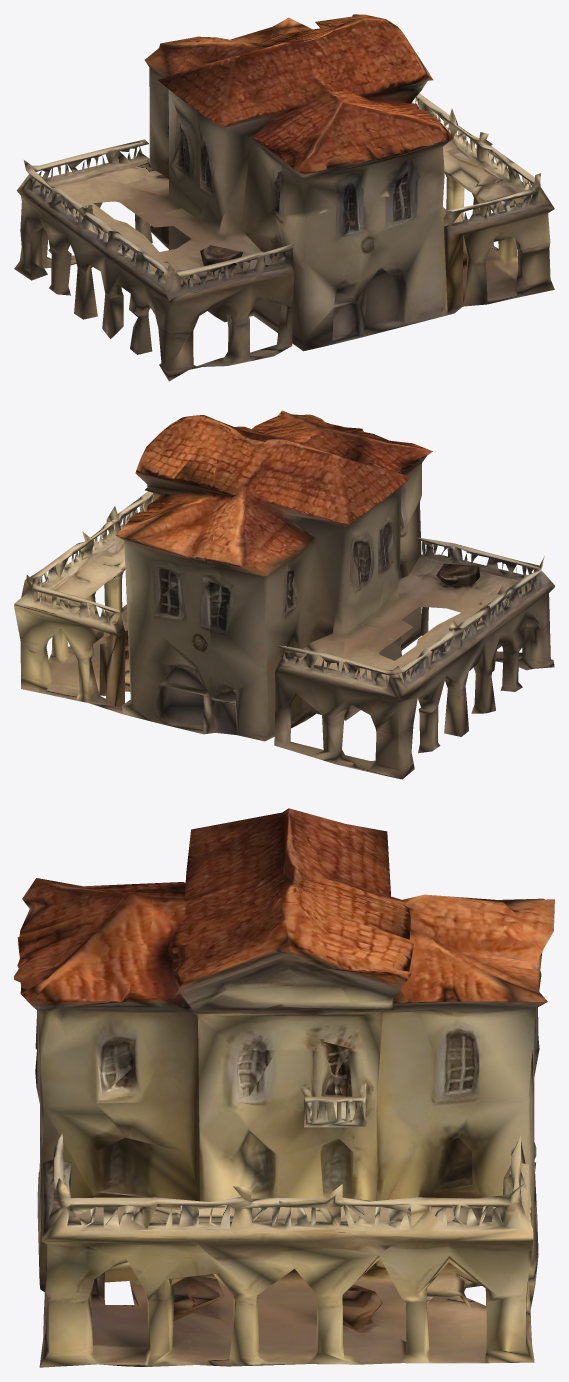
File: haus_mittelmeer.glb
3 renders of one model, top to bottom at view 1: azimuth 30°, elevation 25°; view 2: azimuth 150°, elevation 25°; view 3: azimuth 270°, elevation 25°, orthographic. The views are drawn at different scales.
Visible parts, largest first — view 1: tripo_node_808f4878-2a22-4189-8404-f04306ef44aa; view 2: tripo_node_808f4878-2a22-4189-8404-f04306ef44aa; view 3: tripo_node_808f4878-2a22-4189-8404-f04306ef44aa.
Part boxes in pixels (x1,y1,x2,y2): tripo_node_808f4878-2a22-4189-8404-f04306ef44aa: (14, 14, 554, 381); tripo_node_808f4878-2a22-4189-8404-f04306ef44aa: (14, 410, 554, 779); tripo_node_808f4878-2a22-4189-8404-f04306ef44aa: (14, 808, 554, 1367).
Bounding box in the file's own units: 0.995 × 0.591 × 0.7638.
Materials: 1 (1 with a texture image).
